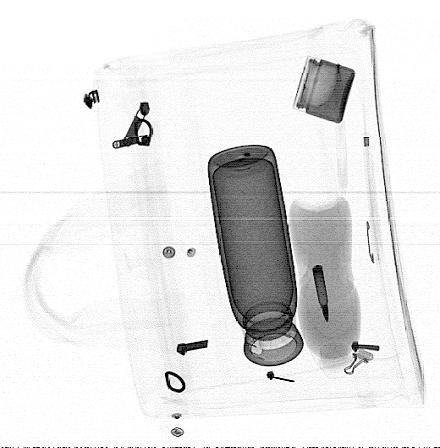Bullet: (313, 264, 330, 324)
